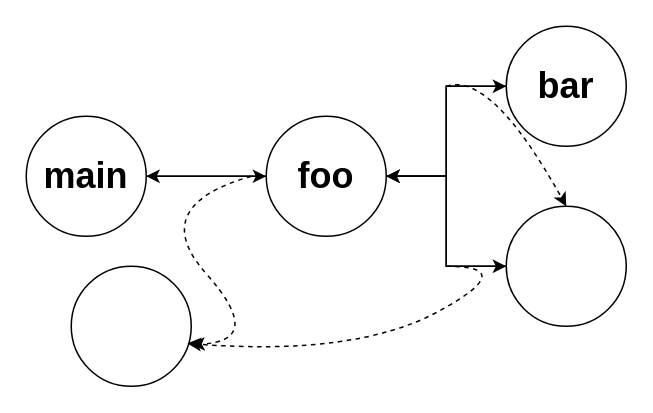
Image size: 653x413. Some labels were removed from this diagram. The centre of each missing label's shape, as x and y in pixels:
baz: the point at 565,265
Other Gadgets: the point at 130,325
